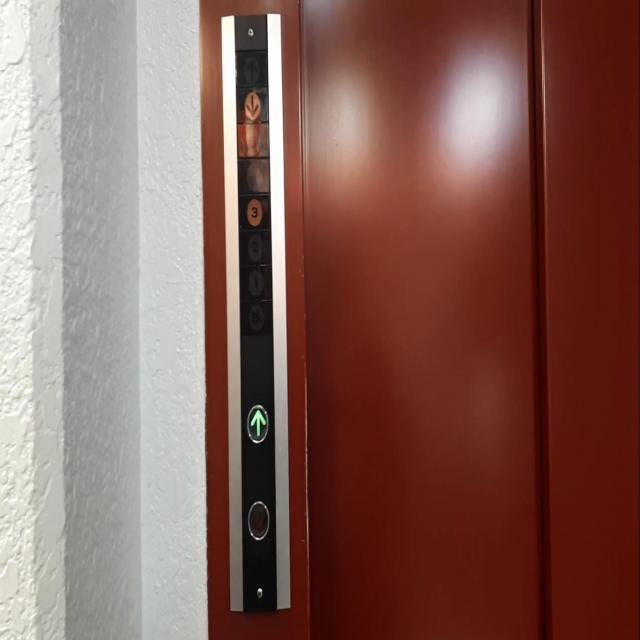1: (238, 261, 274, 301)
2: (237, 227, 273, 266)
3: (237, 190, 272, 230)
B1: (239, 296, 274, 336)
blur: (236, 152, 271, 194), (236, 119, 270, 160)
down: (235, 84, 270, 124), (247, 499, 270, 541)
up: (234, 47, 269, 89), (245, 403, 269, 444)
